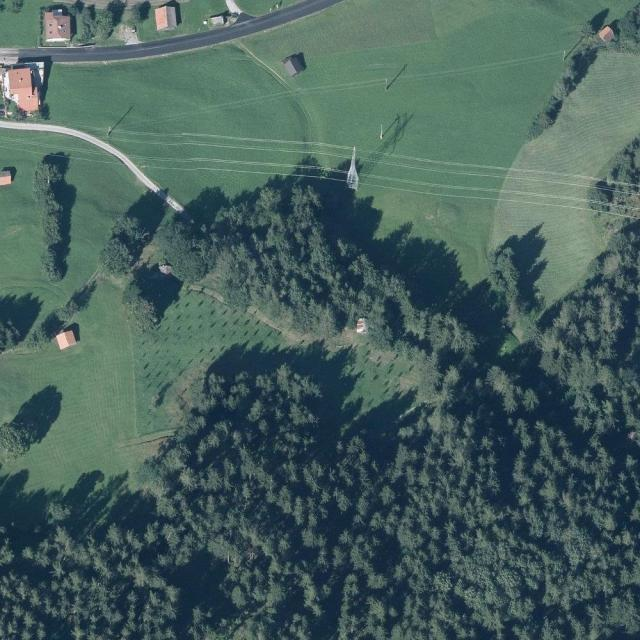building: (0, 62, 44, 114), (5, 66, 41, 115), (43, 8, 72, 43), (155, 5, 178, 31), (0, 170, 13, 187)
greenland: (68, 0, 130, 45), (235, 1, 299, 16), (139, 18, 158, 42)
